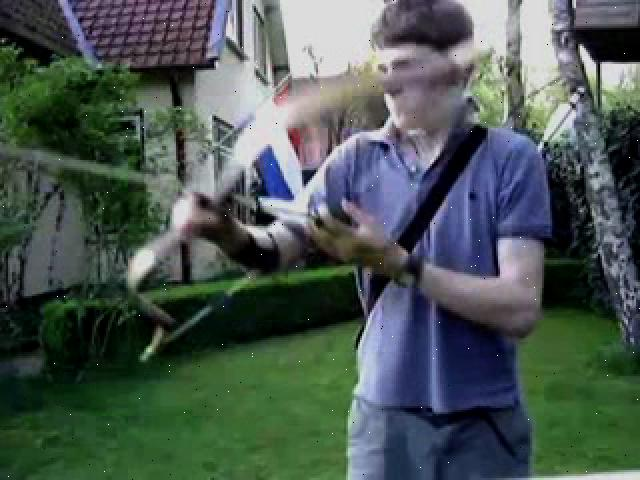P: (173, 2, 550, 475)
